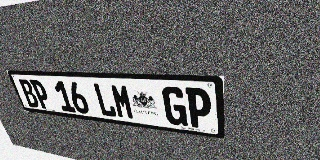1: (52, 81, 76, 113)
6: (66, 81, 91, 114)
B: (17, 79, 41, 108)
G: (161, 86, 188, 126)
L: (92, 83, 117, 118)
M: (110, 84, 135, 120)
P: (185, 87, 212, 129), (29, 80, 53, 110)
